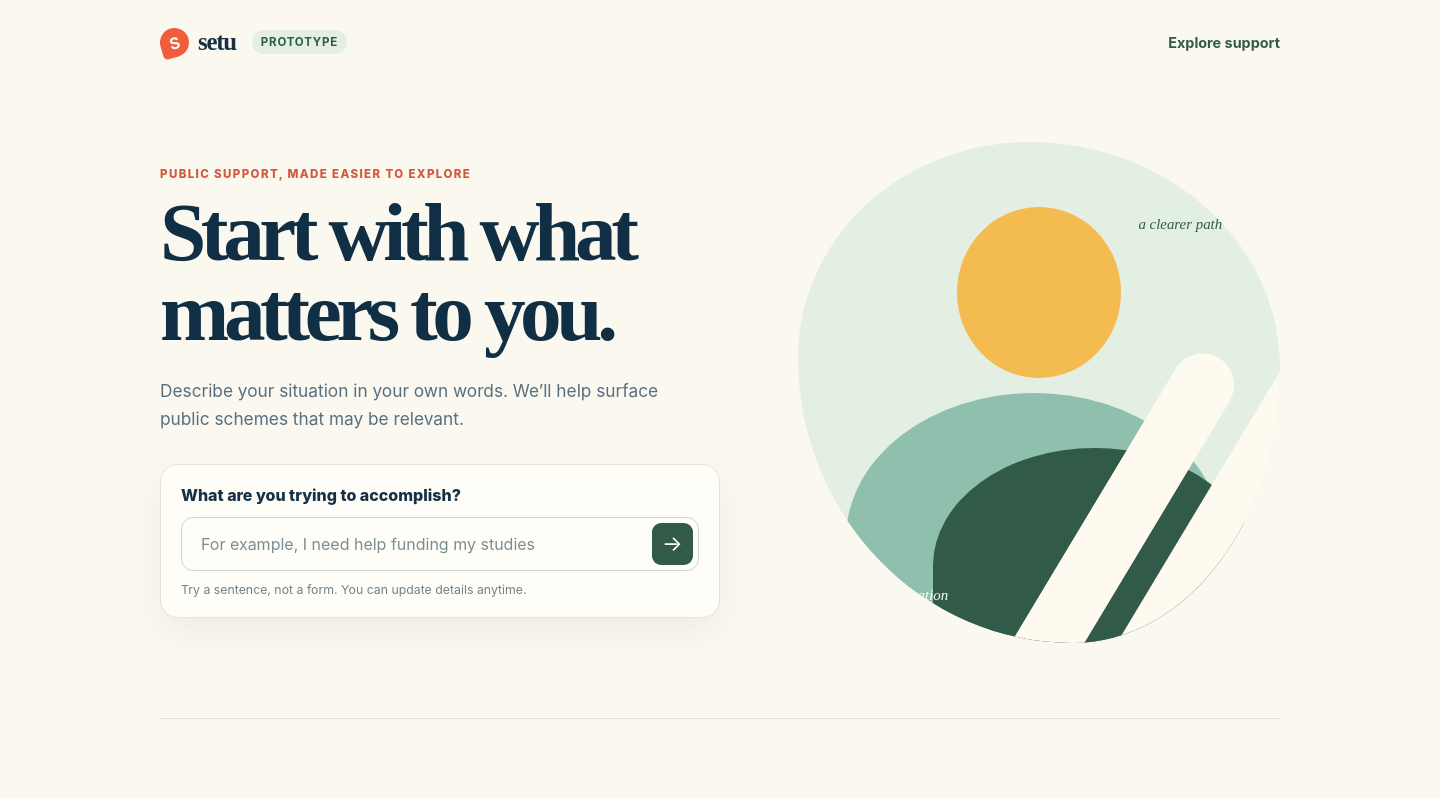
it: App › starts the mocked conversation when the citizen submits a goal
In the field labelled "What are you trying to accomplish?": (424, 544) [196,525,652,563], type "I need help with studies"
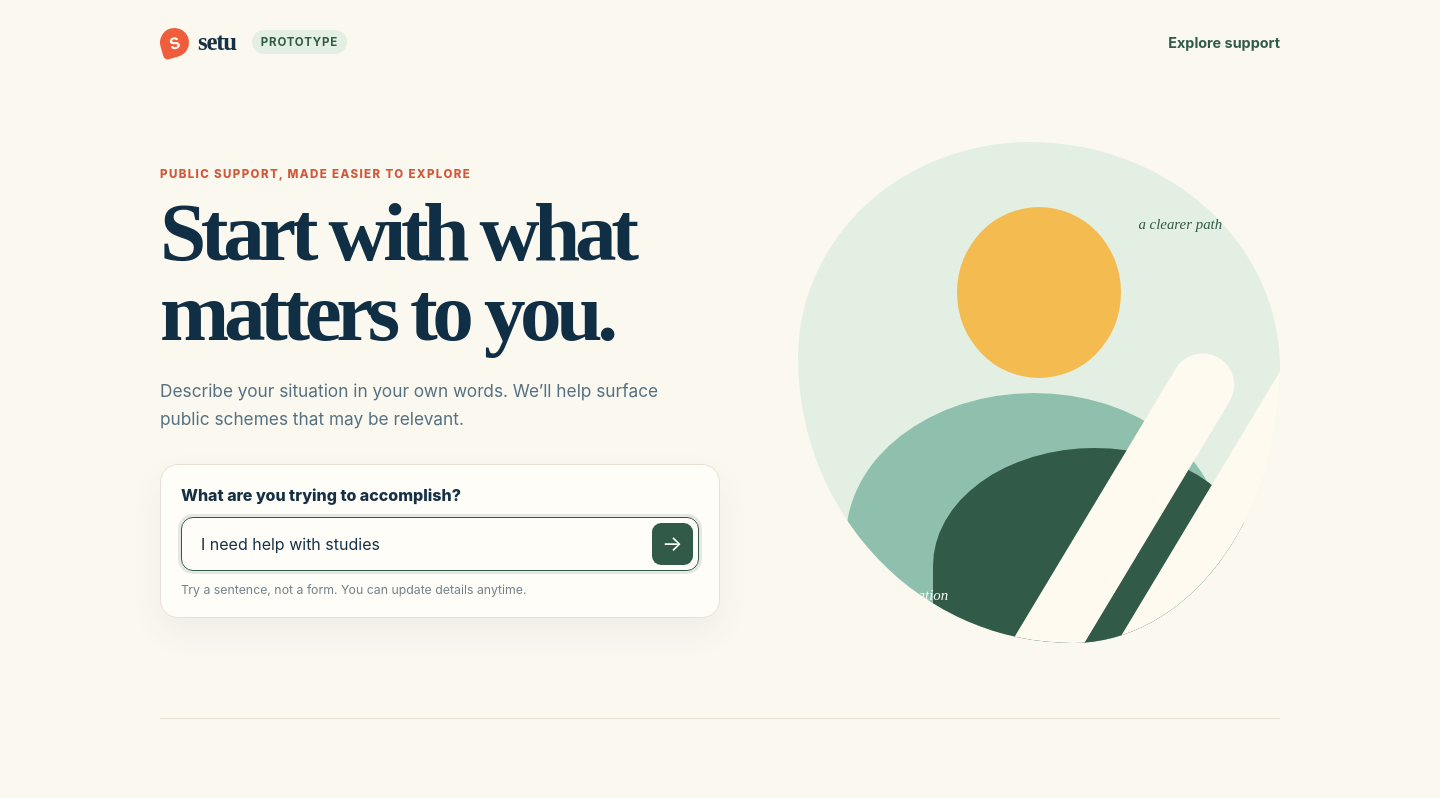
Click the button named "Start conversation": (672, 544) [652,523,693,565]
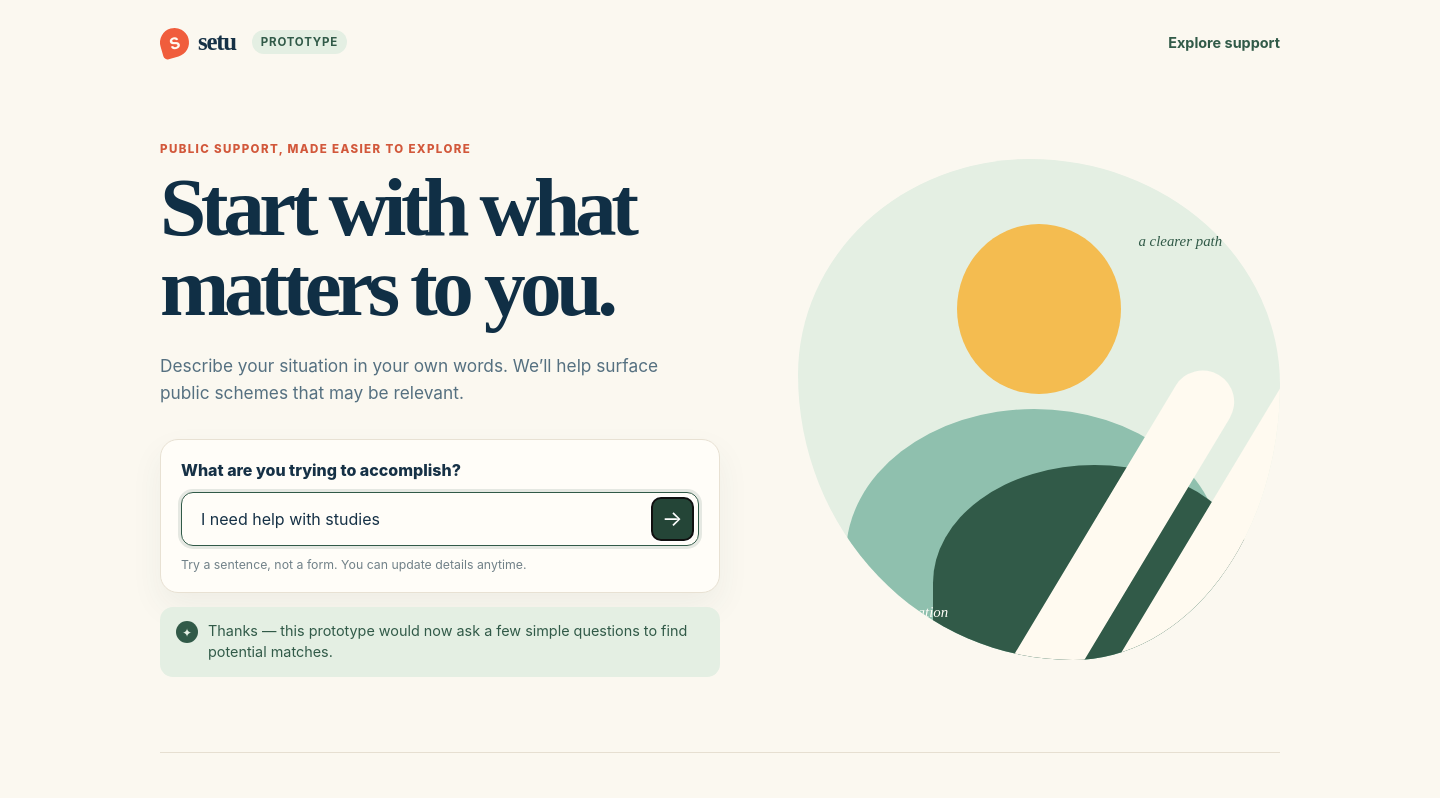
Now the element named "Conversation preview" shows "would now ask a few simple questions", box [208,622,687,660]
